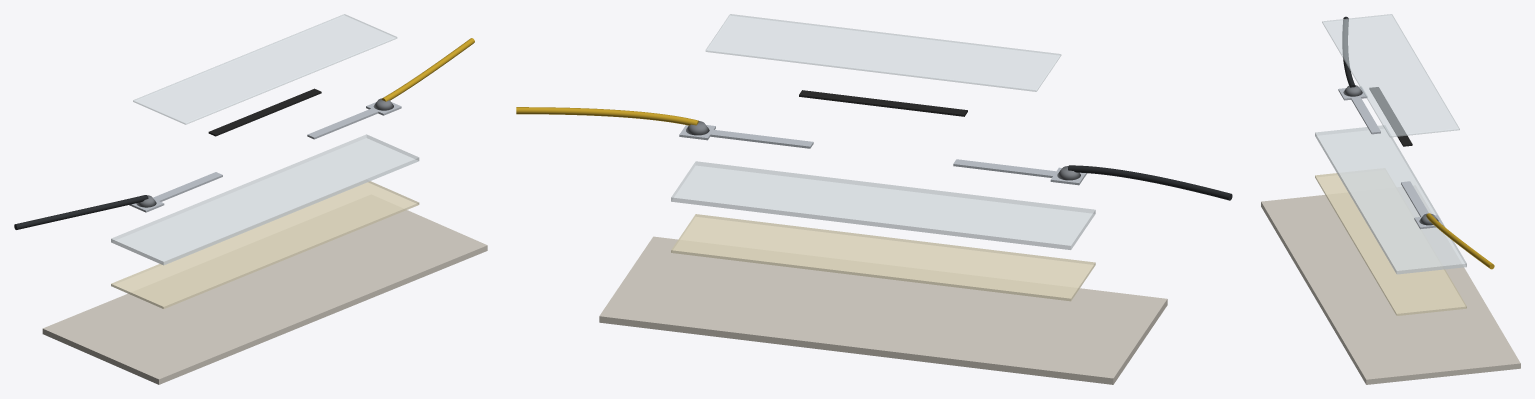
The model's file is exploded.glb.
3 renders of one model, left to right at view 1: azimuth 30°, elevation 25°; view 2: azimuth 150°, elevation 25°; view 3: azimuth 270°, elevation 25°, orthographic. The views are drawn at different scales.
Visible parts, largest first — view 1: cfab, ctpu, cadh, cenc, cwire-1_m, ccarb, cwire1_m, clead1, clead-1; view 2: cfab, ctpu, cadh, cenc, cwire1_m, ccarb, cwire-1_m, clead1, clead-1; view 3: cfab, ctpu, cenc, cadh, ccarb, cwire1_m, cwire-1_m, clead-1, clead1.
Boxes of the visible parts, x1,y1,x2,y2 form: cfab: [42, 210, 487, 384]; ctpu: [111, 134, 419, 265]; cadh: [111, 181, 419, 308]; cenc: [133, 14, 397, 124]; cwire-1_m: [14, 195, 148, 229]; ccarb: [208, 88, 321, 136]; cwire1_m: [381, 38, 474, 101]; clead1: [307, 108, 378, 139]; clead-1: [153, 172, 222, 201]; cfab: [599, 236, 1167, 384]; ctpu: [671, 161, 1095, 249]; cadh: [671, 214, 1095, 301]; cenc: [705, 14, 1061, 91]; cwire1_m: [516, 107, 698, 125]; ccarb: [799, 90, 967, 116]; cwire-1_m: [1068, 165, 1232, 200]; clead1: [710, 130, 813, 148]; clead-1: [953, 159, 1055, 177]; cfab: [1261, 186, 1520, 384]; ctpu: [1315, 125, 1466, 274]; cenc: [1322, 14, 1459, 137]; cadh: [1315, 173, 1466, 315]; ccarb: [1369, 87, 1412, 146]; cwire1_m: [1426, 213, 1494, 269]; cwire-1_m: [1342, 16, 1355, 87]; clead-1: [1351, 97, 1380, 134]; clead1: [1401, 181, 1428, 216].
Bounding box in the file's own units: 12.16 × 4.86 × 5.38.
